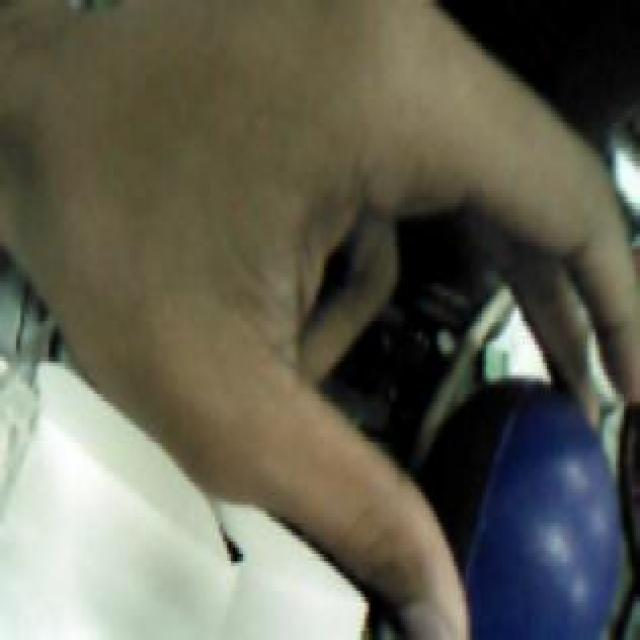BallPurple: (416, 375, 622, 640)
